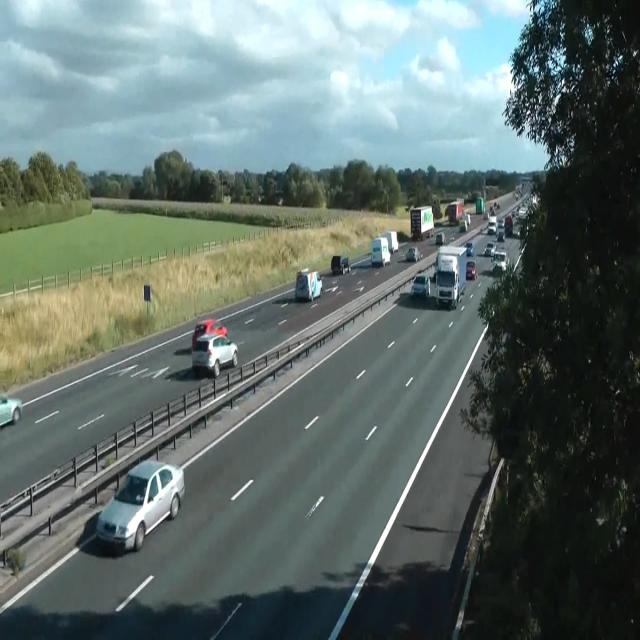bus: (192, 332, 238, 378), (191, 318, 227, 349), (0, 394, 22, 426), (410, 274, 430, 298), (405, 246, 423, 262), (466, 260, 478, 280), (340, 256, 350, 275), (484, 242, 495, 256), (464, 241, 474, 256), (436, 231, 446, 245), (495, 228, 505, 241), (458, 220, 468, 232), (426, 228, 434, 238), (494, 202, 500, 210)
jeep: (95, 458, 185, 552), (491, 250, 507, 274)
minibus: (435, 246, 467, 310), (295, 268, 322, 302), (410, 205, 434, 241), (371, 236, 391, 266), (446, 201, 464, 224), (330, 255, 350, 275), (381, 230, 398, 253), (458, 213, 471, 232), (476, 196, 484, 214)
